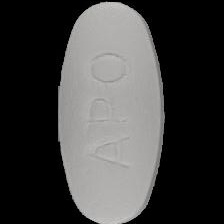68084-590: (0, 0, 224, 224)
